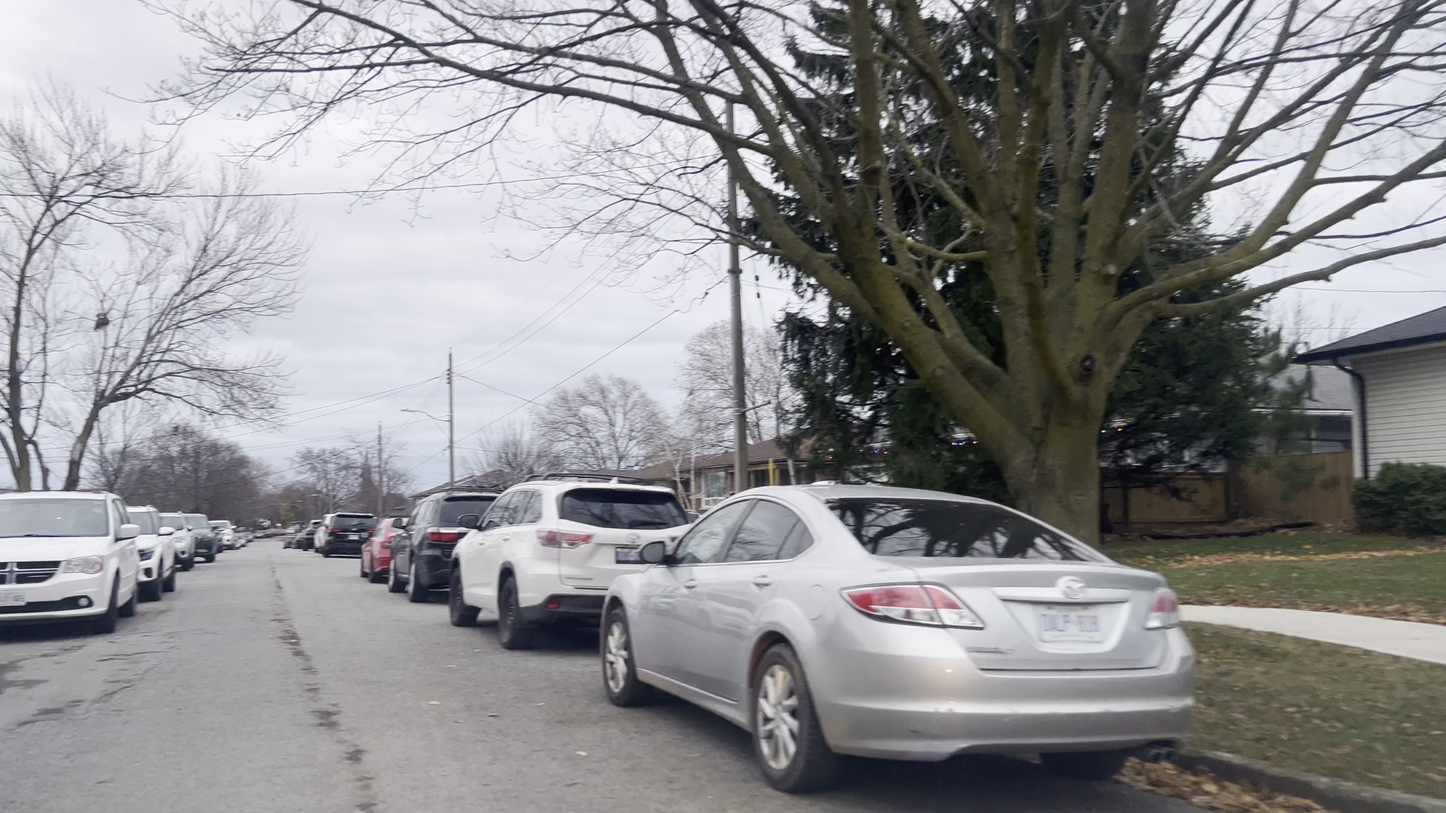cracks: (294, 646, 374, 808), (26, 669, 119, 722)
